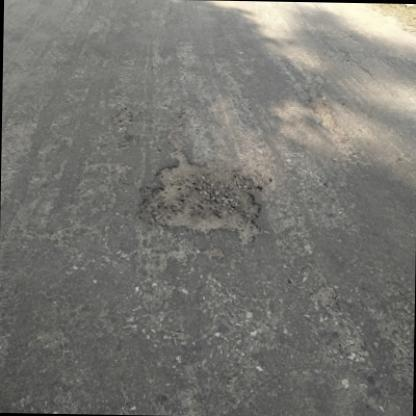pothole: (136, 142, 272, 248), (312, 275, 416, 402), (305, 91, 343, 141)
